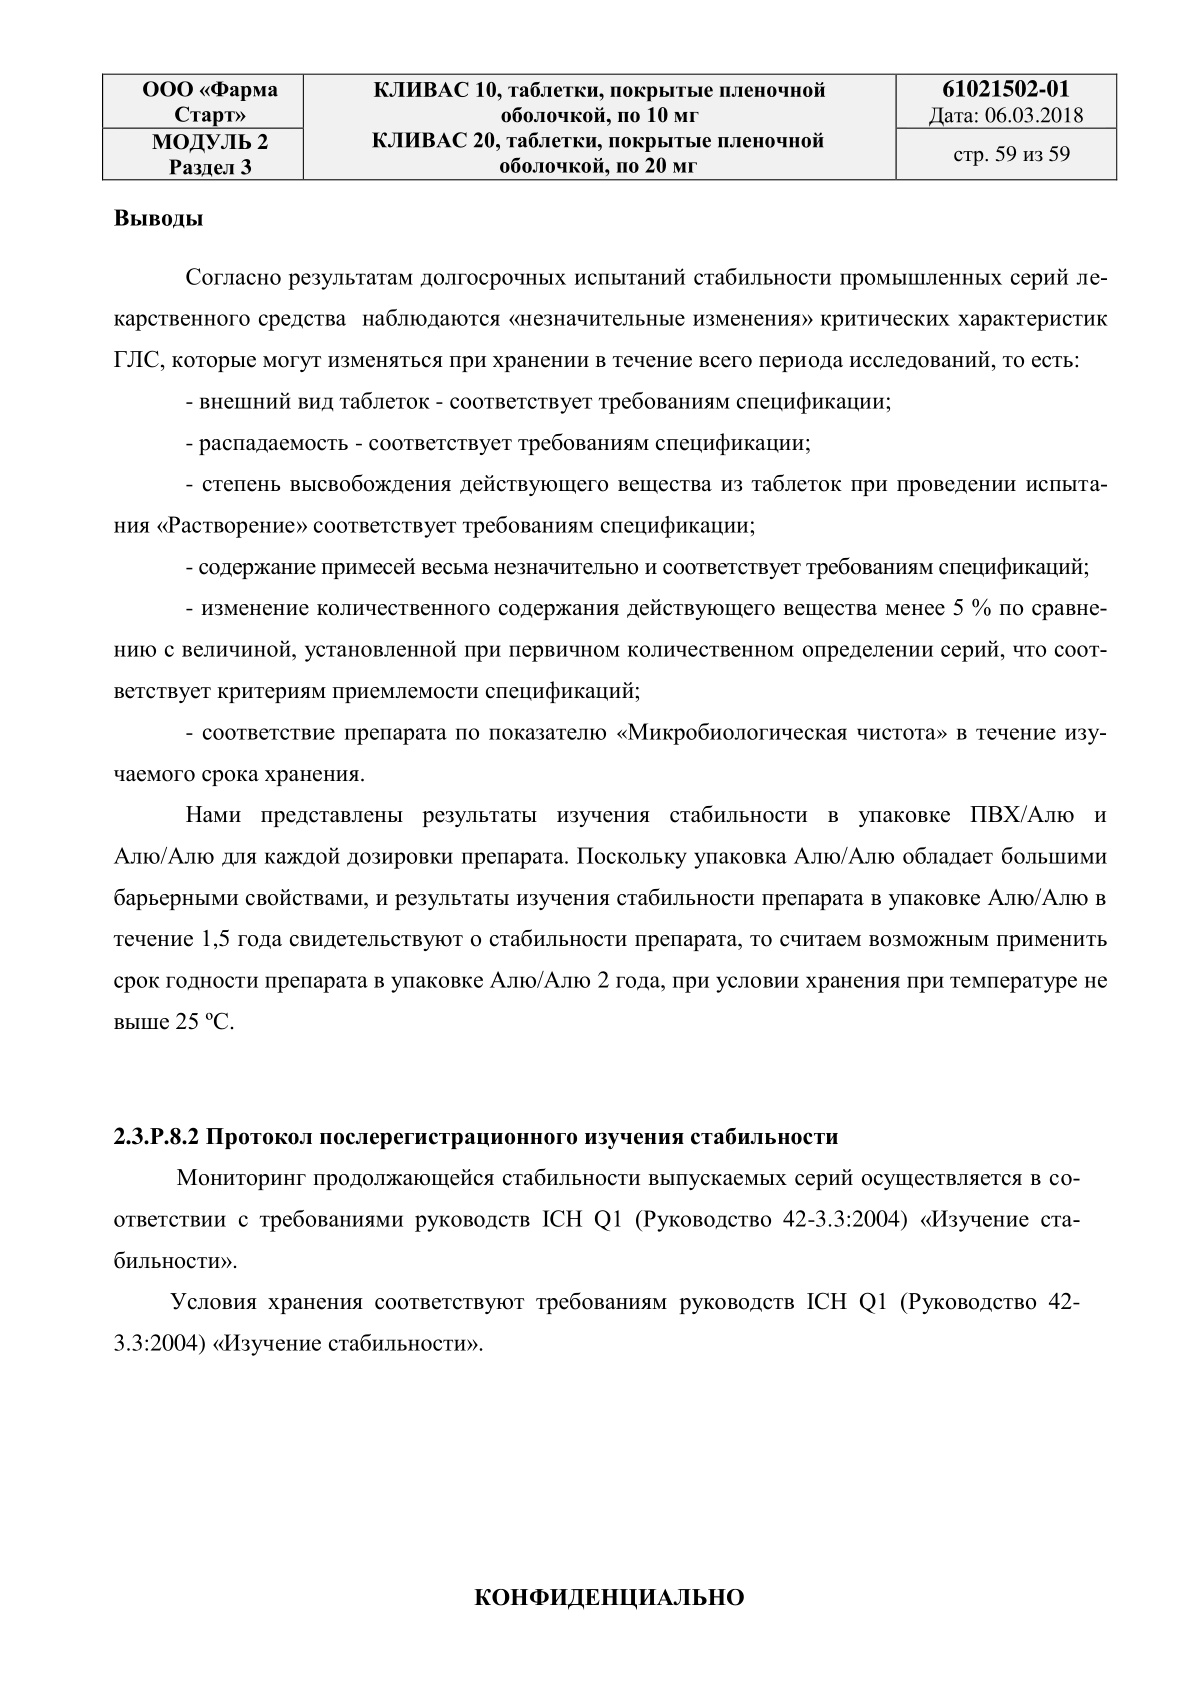merged_cells: (101, 73, 1118, 182)
